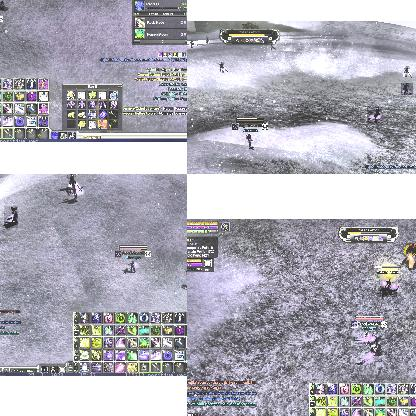caliana: (377, 273, 397, 297), (4, 206, 18, 228), (67, 185, 83, 201), (367, 107, 381, 123), (401, 83, 413, 95), (66, 174, 77, 186), (218, 62, 228, 73), (404, 66, 412, 78), (188, 40, 196, 48), (205, 36, 209, 44)
